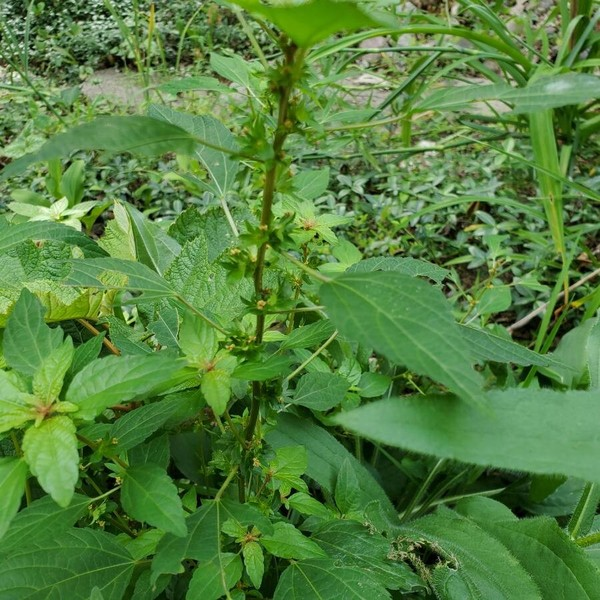obstacle: (89, 17, 524, 583)
